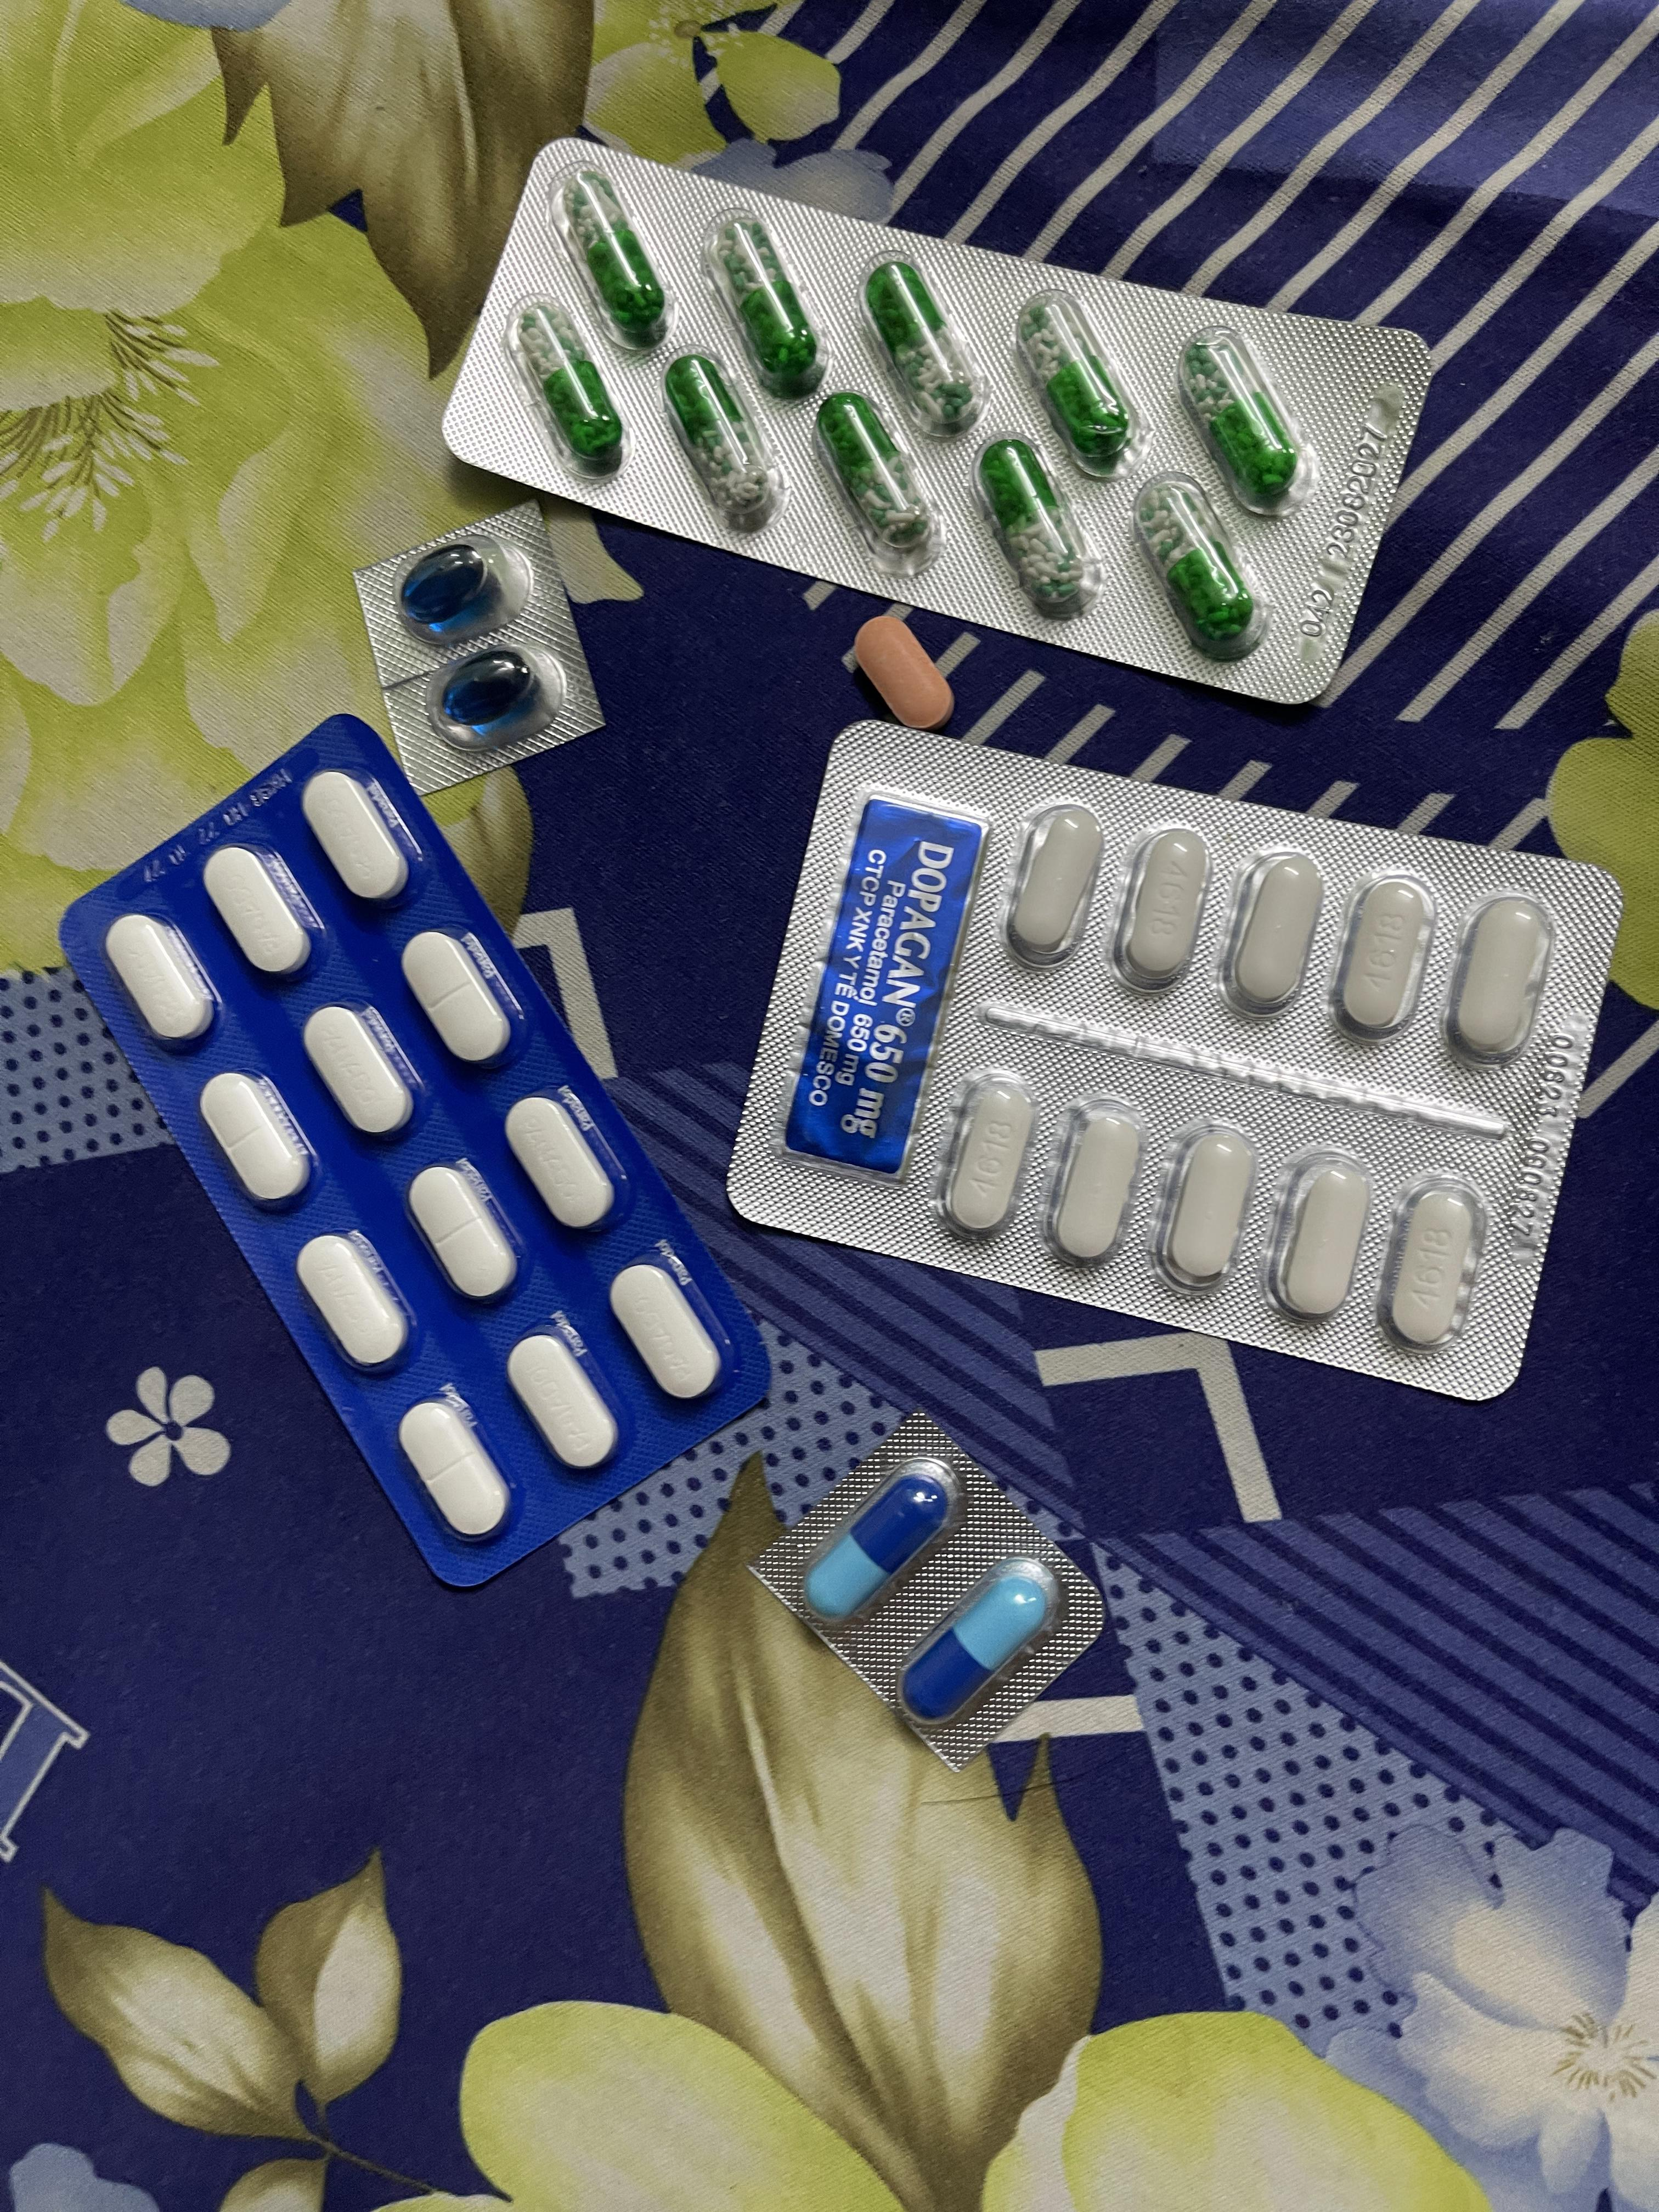Lincomyxin_500mg: (439, 650, 535, 728), (404, 549, 490, 625)
Loratadine_10mg: (854, 617, 953, 732)
Paracetamol_350mg: (507, 1327, 624, 1472), (610, 1258, 725, 1402), (296, 1233, 413, 1372), (408, 1160, 523, 1301), (403, 928, 518, 1066), (505, 1092, 620, 1230), (399, 1399, 511, 1540), (303, 1005, 416, 1141), (200, 1071, 312, 1207), (202, 845, 314, 977), (301, 772, 413, 900), (105, 916, 216, 1045)
Paracetamol_500mg: (1377, 1174, 1492, 1352), (1443, 890, 1558, 1064), (1216, 845, 1326, 1017), (1150, 1118, 1260, 1291), (1328, 869, 1438, 1040), (1040, 1096, 1148, 1268), (932, 1068, 1039, 1237), (1110, 824, 1215, 995), (1000, 803, 1103, 965), (1276, 1162, 1373, 1317)
Paracetamol_650mg: (1014, 286, 1148, 479), (549, 160, 676, 357), (810, 392, 938, 580), (974, 435, 1101, 620), (504, 293, 629, 479), (713, 212, 833, 404), (662, 350, 779, 529), (1129, 470, 1253, 639), (1185, 341, 1300, 502), (877, 266, 985, 432)
pill: (896, 1555, 1061, 1728), (805, 1465, 960, 1623)
